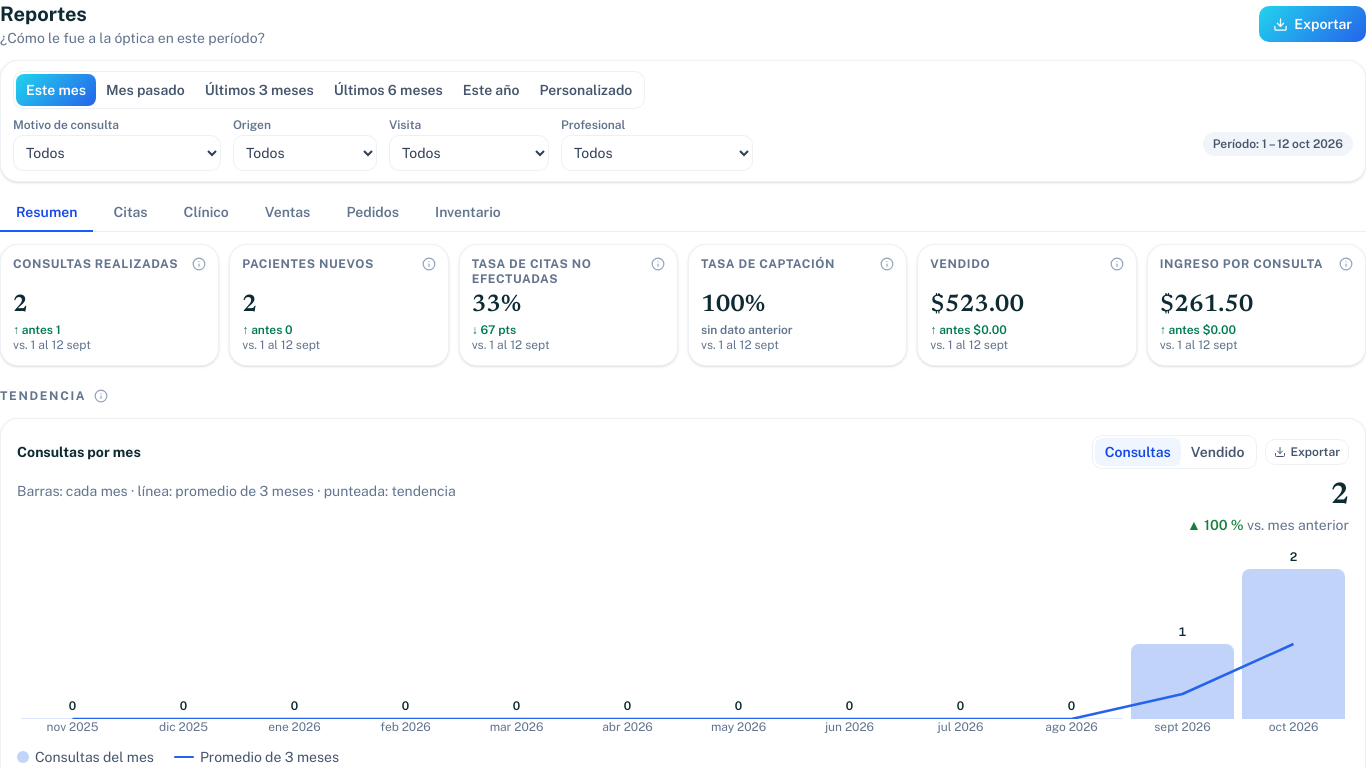
it: Reportes: el Resumen responde cómo le fue a la óptica › cada número abre su lista: la ventana muestra el mismo número y tantas filas como dice
This screenshot has width=1366, height=768.
Click the button "2 ↑ antes 1 vs. 1 al 12 sept" at {"x": 110, "y": 323}, box [13,293,206,353]
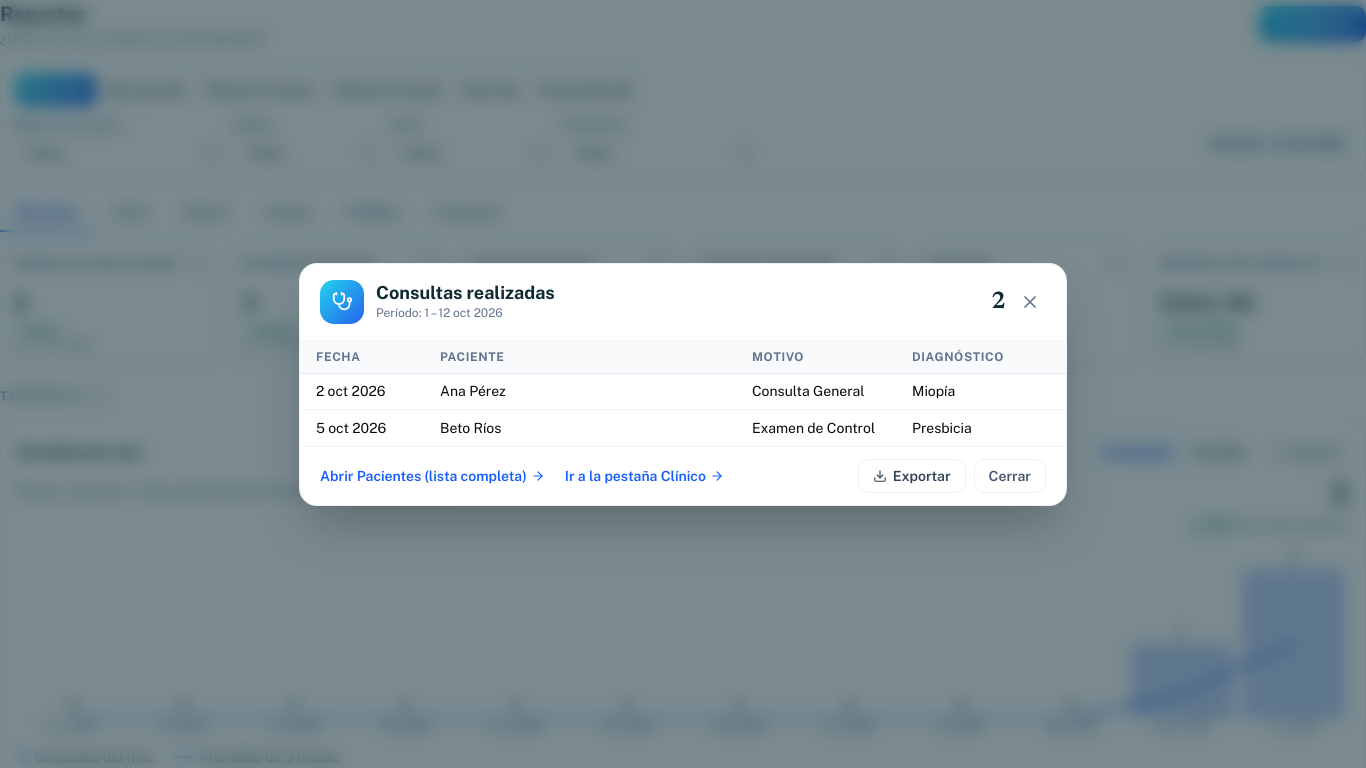
expect the text "2" is shown: met, box [991,290,1006,314]
expect the number of rows is 3: met, box [300,340,1066,372]; [300,372,1066,409]; [300,409,1066,446]
Press Escape in the dialog, box [299,262,1067,506]
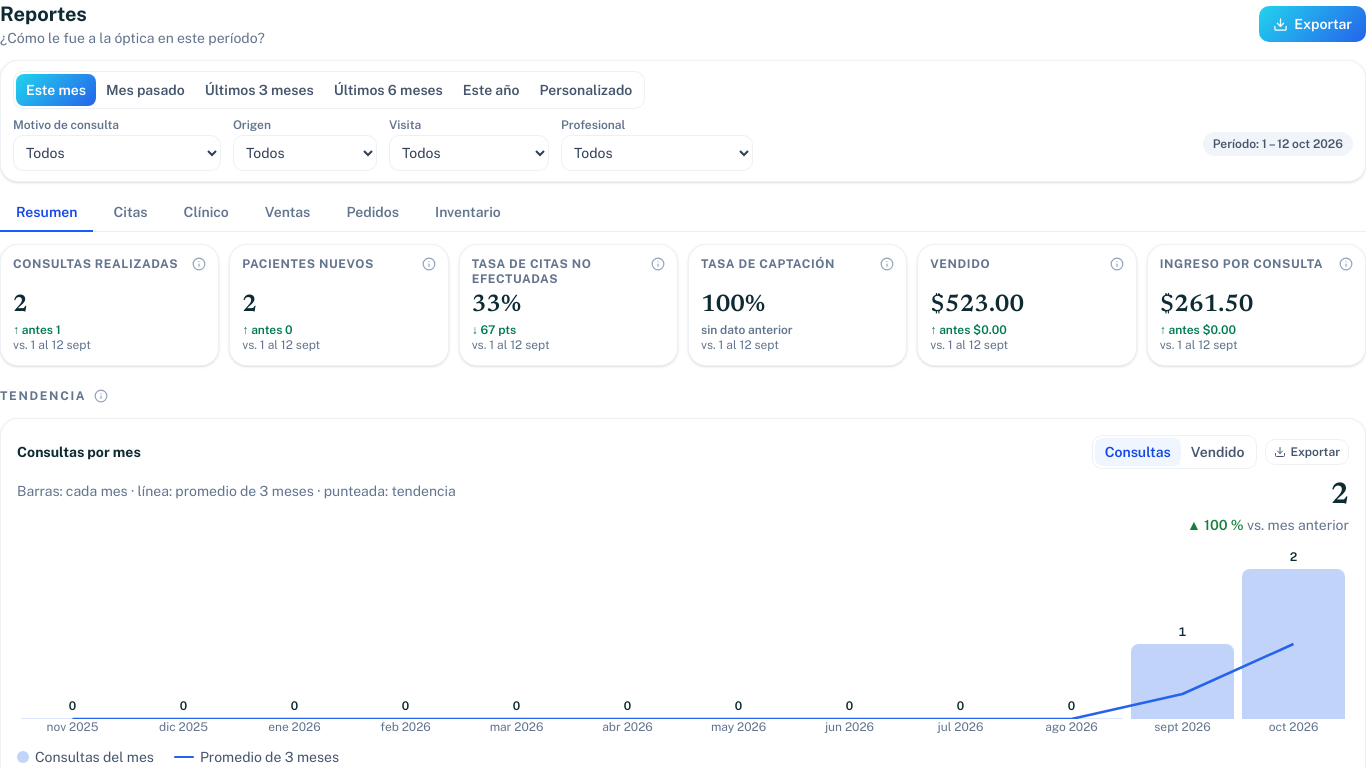
Click the button with aria-label "Vendido: " at {"x": 1027, "y": 323}, box [930,293,1124,353]
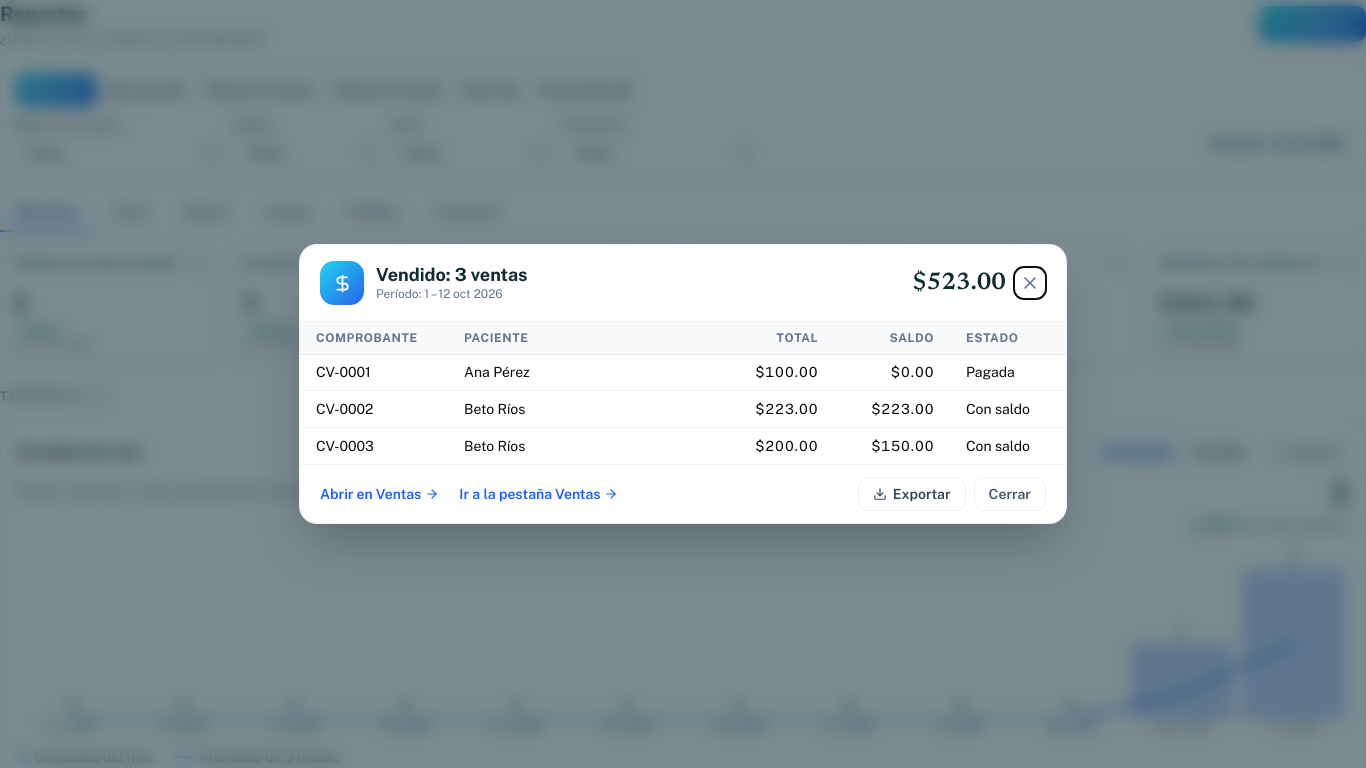
expect the text "$523.00" is shown: met, box [912,271,1006,295]
expect the number of rows is 4: met, box [300,322,1066,354]; [300,354,1066,390]; [300,390,1066,428]; [300,428,1066,464]
expect the column heading "Comprobante" is shown: met, box [300,322,448,354]
